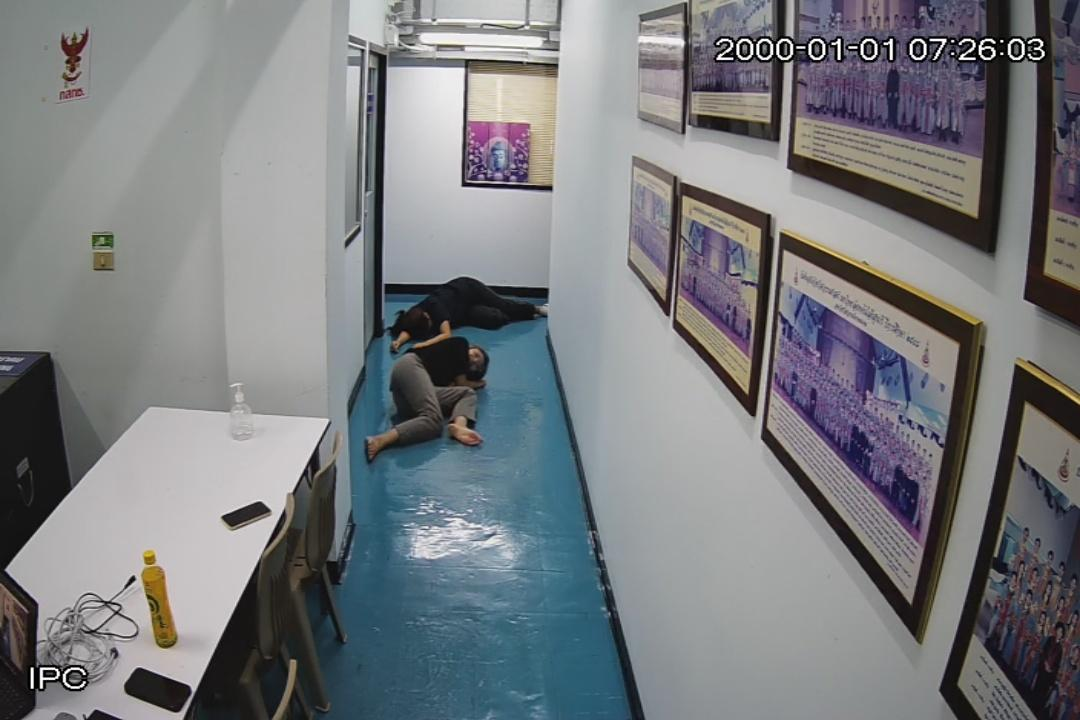fall: (360, 338, 498, 460), (388, 268, 550, 356)
